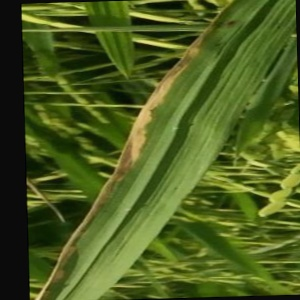Leaf_Blast: (93, 64, 219, 267)
